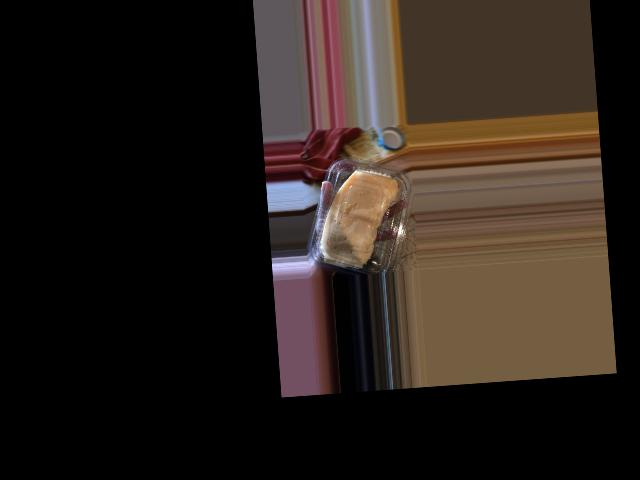cheese: (307, 151, 414, 278)
